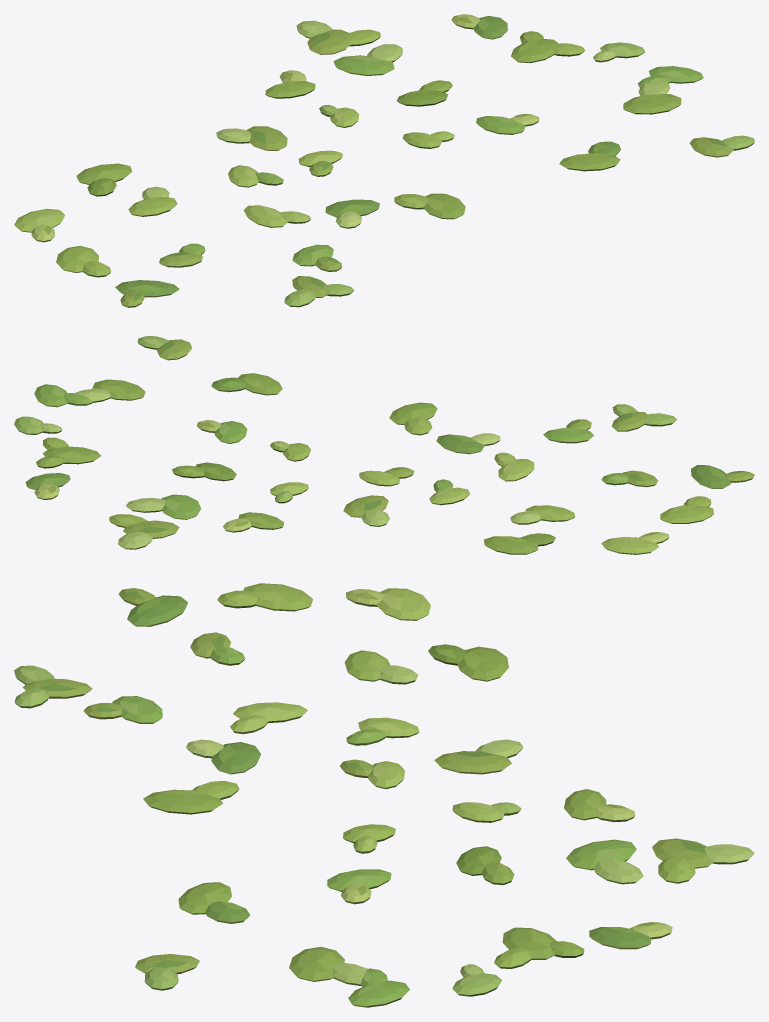
Rendered from SM_Duckweed_B.fbx.
3 views of the same model, one above another, from view 1: azimuth 30°, elevation 25°; view 2: azimuth 150°, elevation 25°; view 3: azimuth 270°, elevation 25° (orthographic). The views are drawn at different scales.
Parts seen in each view (by area): view 1: SM_Duckweed_B; view 2: SM_Duckweed_B; view 3: SM_Duckweed_B.
Boxes of the visible parts, <box> form: SM_Duckweed_B: <box>14,14,754,307</box>; SM_Duckweed_B: <box>14,336,754,554</box>; SM_Duckweed_B: <box>14,583,754,1007</box>.
Size of the model in its own units: 0.2453 by 0.1815 by 0.002.
1 material, 1 textured.
